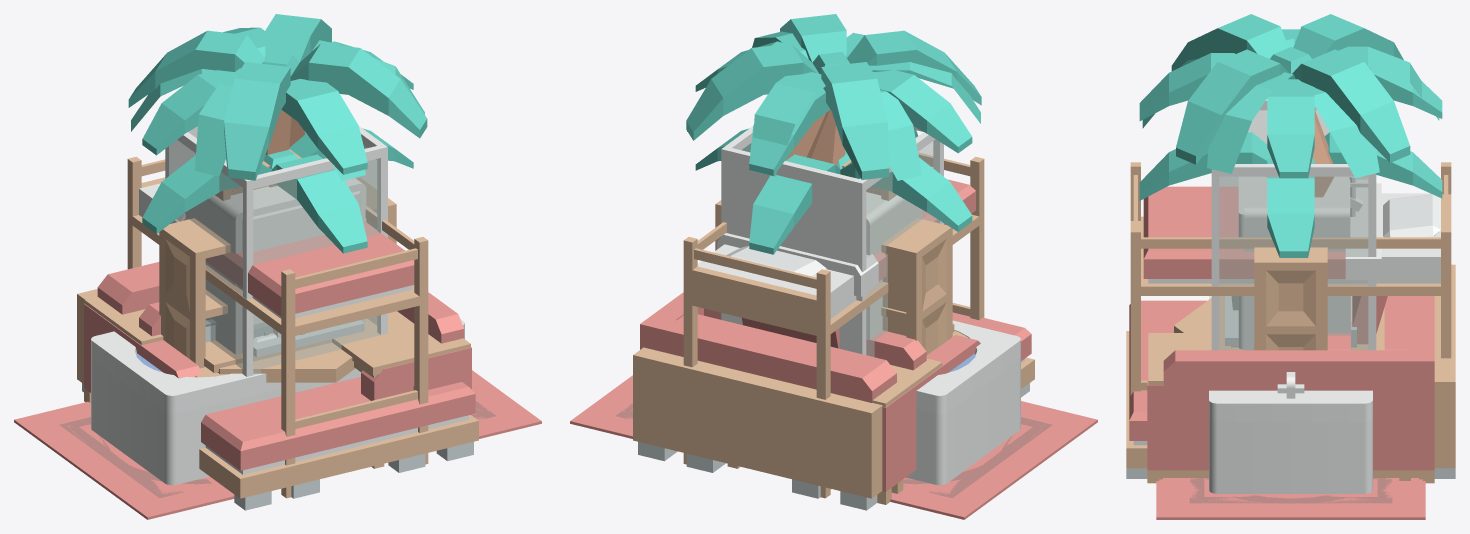
Rendered from furniture.glb.
The picture shows the model from 3 angles, left to right: view 1: azimuth 30°, elevation 25°; view 2: azimuth 150°, elevation 25°; view 3: azimuth 270°, elevation 25°; orthographic projection.
Visible parts, largest first — view 1: leafs (×2), Mesh bedBunk, bathtub(Clone), cover, Mesh shower, rugRectangle(Clone), tree_palmShort, coverTop, doorLeft (×2), bookcaseClosedWide(Clone), Mesh bedDouble, loungeSofaCorner(Clone) (+13 smaller); view 2: leafs (×2), Mesh bedDouble, Mesh bedBunk, Mesh shower, Mesh bedSingle, bathtub(Clone), loungeSofaCorner(Clone), rugRectangle(Clone), bookcaseClosedWide(Clone), tree_palmBend, tree_palmShort, loungeSofa(Clone) (+9 smaller); view 3: leafs (×2), loungeSofaCorner(Clone), Mesh shower, bathtub(Clone), Mesh bedBunk, coverTop, tree_palmShort, rugRectangle(Clone), tree_palmBend, bookcaseClosedWide(Clone), loungeSofaLong(Clone), Mesh kitchenFridgeLarge (+12 smaller).
Boxes of the visible parts, x1=… form: leafs (×2): x1=128, y1=14, x2=427, y2=180; Mesh bedBunk: x1=127, y1=156, x2=428, y2=498; bathtub(Clone): x1=91, y1=319, x2=464, y2=485; cover: x1=201, y1=377, x2=475, y2=470; Mesh shower: x1=165, y1=126, x2=387, y2=376; rugRectangle(Clone): x1=14, y1=370, x2=541, y2=519; tree_palmShort: x1=142, y1=128, x2=413, y2=253; coverTop: x1=170, y1=213, x2=414, y2=316; doorLeft (×2): x1=242, y1=173, x2=317, y2=374; bookcaseClosedWide(Clone): x1=159, y1=178, x2=396, y2=368; Mesh bedDouble: x1=77, y1=289, x2=478, y2=510; loungeSofaCorner(Clone): x1=84, y1=262, x2=471, y2=468; leafs (×2): x1=686, y1=14, x2=981, y2=179; Mesh bedDouble: x1=633, y1=347, x2=1034, y2=510; Mesh bedBunk: x1=683, y1=152, x2=984, y2=498; Mesh shower: x1=721, y1=126, x2=943, y2=356; Mesh bedSingle: x1=681, y1=361, x2=833, y2=498; bathtub(Clone): x1=906, y1=320, x2=1020, y2=485; loungeSofaCorner(Clone): x1=640, y1=292, x2=937, y2=504; rugRectangle(Clone): x1=570, y1=375, x2=1097, y2=519; bookcaseClosedWide(Clone): x1=715, y1=200, x2=952, y2=355; tree_palmBend: x1=687, y1=31, x2=980, y2=180; tree_palmShort: x1=695, y1=128, x2=972, y2=254; loungeSofa(Clone): x1=704, y1=308, x2=980, y2=382; leafs (×2): x1=1139, y1=14, x2=1442, y2=178; loungeSofaCorner(Clone): x1=1147, y1=296, x2=1434, y2=483; Mesh shower: x1=1211, y1=99, x2=1376, y2=350; bathtub(Clone): x1=1209, y1=296, x2=1372, y2=493; Mesh bedBunk: x1=1130, y1=162, x2=1451, y2=395; coverTop: x1=1143, y1=183, x2=1381, y2=280; tree_palmShort: x1=1139, y1=132, x2=1442, y2=257; rugRectangle(Clone): x1=1156, y1=478, x2=1425, y2=519; tree_palmBend: x1=1142, y1=30, x2=1439, y2=197; bookcaseClosedWide(Clone): x1=1254, y1=247, x2=1327, y2=350; loungeSofaLong(Clone): x1=1304, y1=296, x2=1410, y2=480; Mesh kitchenFridgeLarge: x1=1244, y1=176, x2=1350, y2=350.
Bounding box in the file's own units: 1.57 × 1.42 × 1.12.
